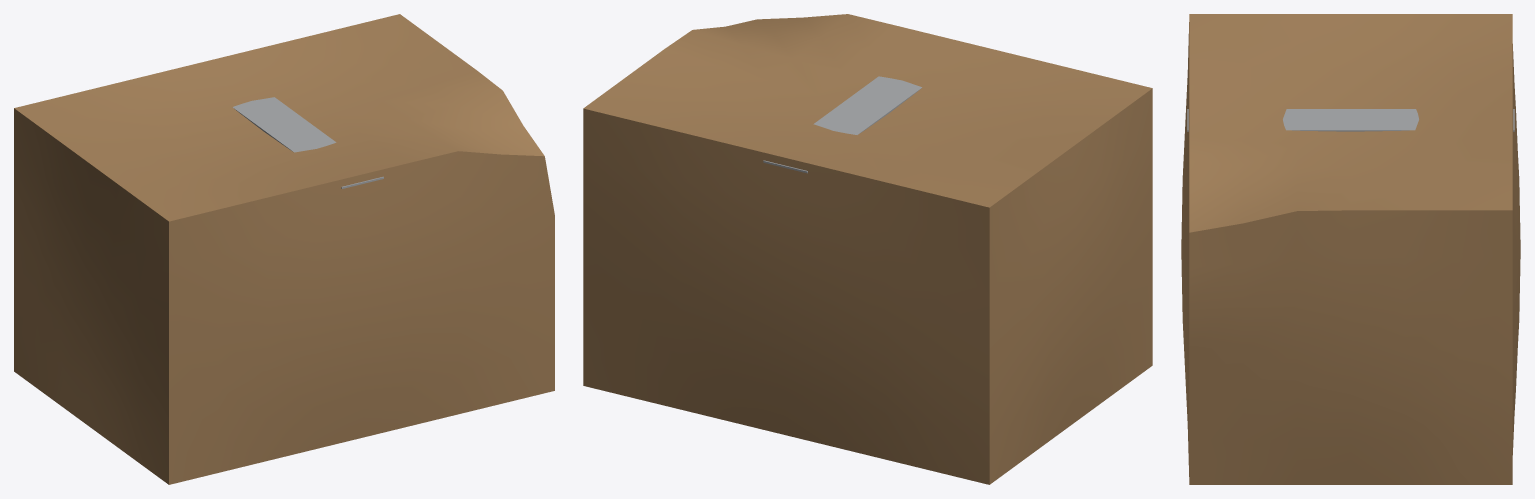
The model's file is cardboard_box.glb.
The picture shows the model from 3 angles, left to right: view 1: azimuth 30°, elevation 25°; view 2: azimuth 150°, elevation 25°; view 3: azimuth 270°, elevation 25°; orthographic projection. The views are drawn at different scales.
Visible parts, largest first — view 1: cardboard_box; view 2: cardboard_box; view 3: cardboard_box.
Boxes of the visible parts, left/top/right/bottom form: cardboard_box: left=14, top=14, right=554, bottom=484; cardboard_box: left=583, top=14, right=1152, bottom=484; cardboard_box: left=1181, top=14, right=1520, bottom=484.
Size of the model in its own units: 0.476 by 0.3 by 0.336.
